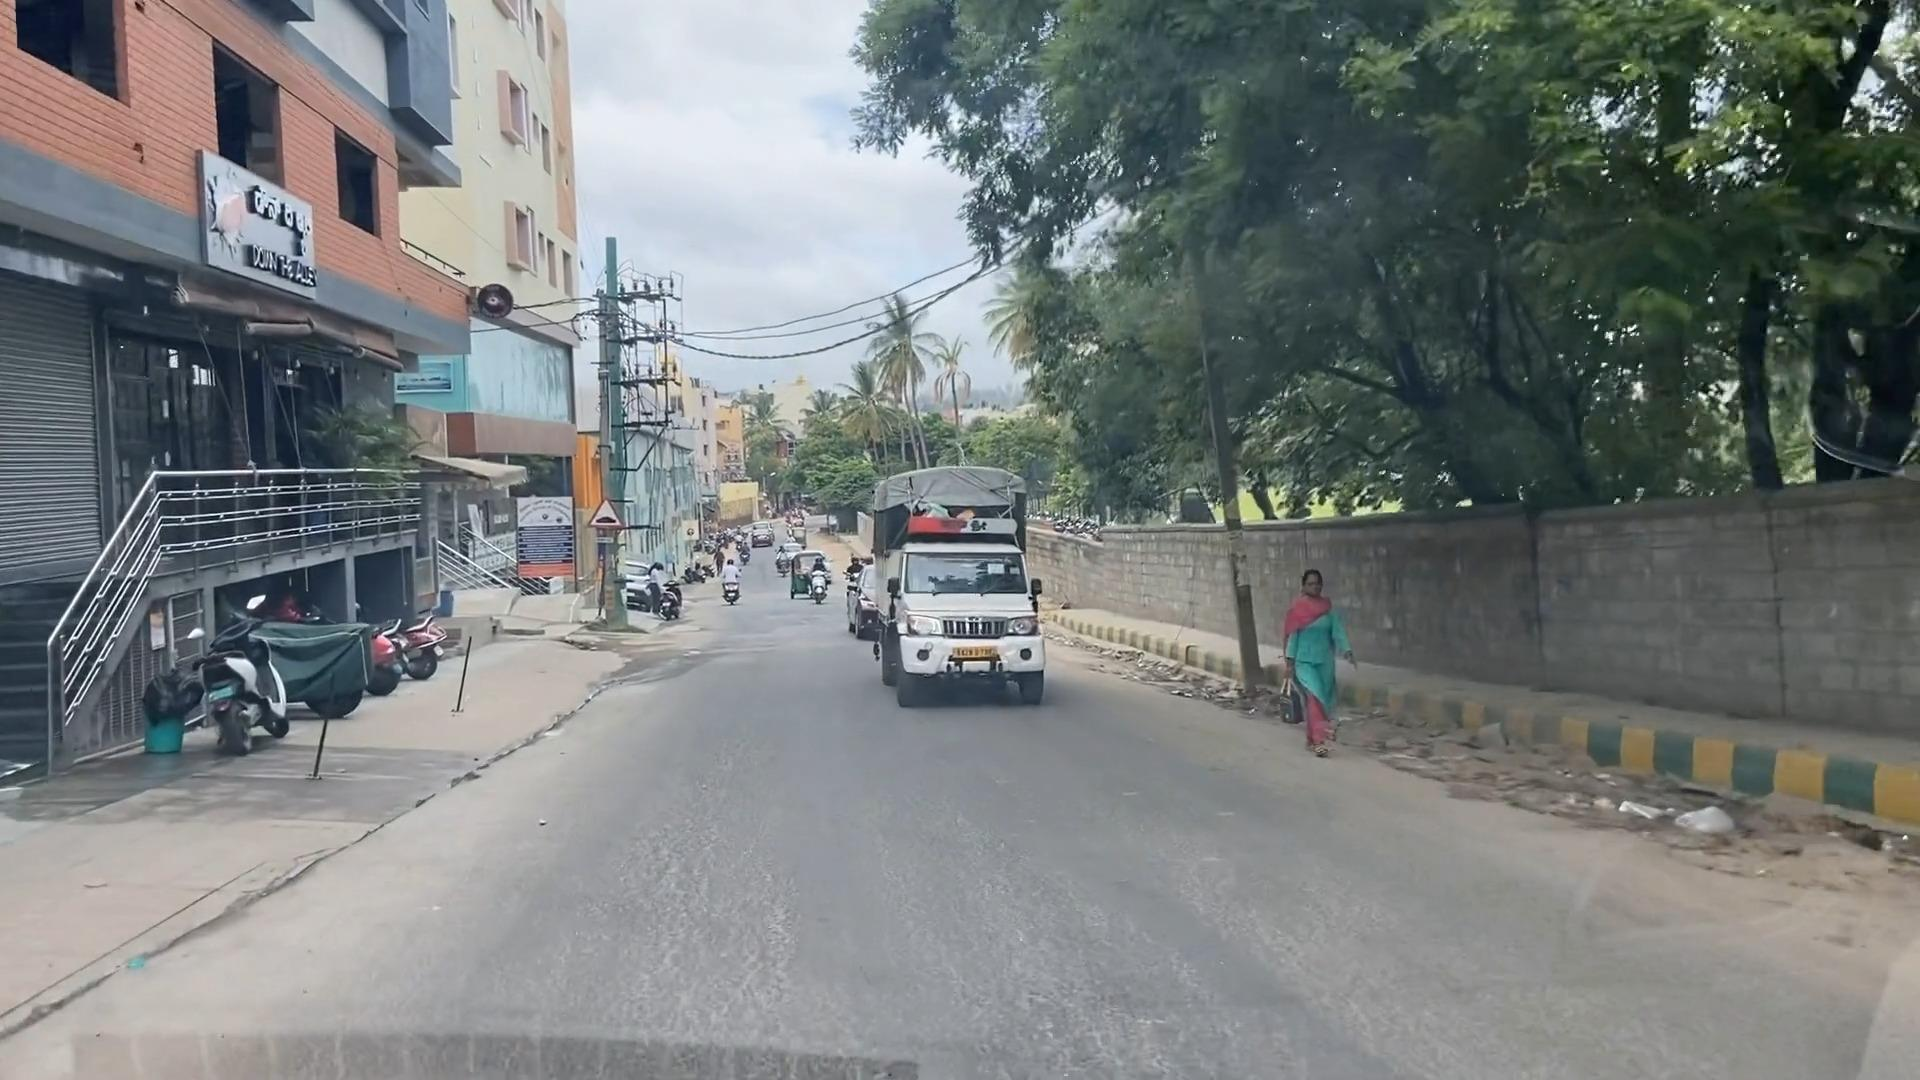HMV: (858, 434, 1067, 713)
LMV: (189, 595, 302, 785)
